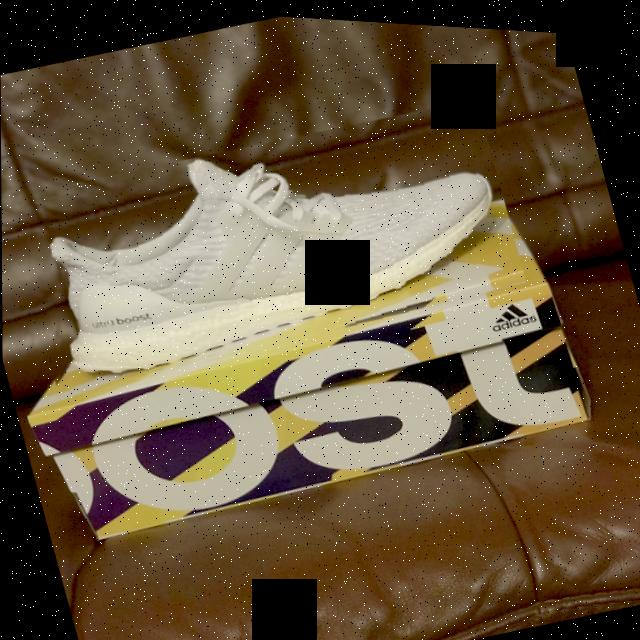shoe: (0, 70, 530, 421)
